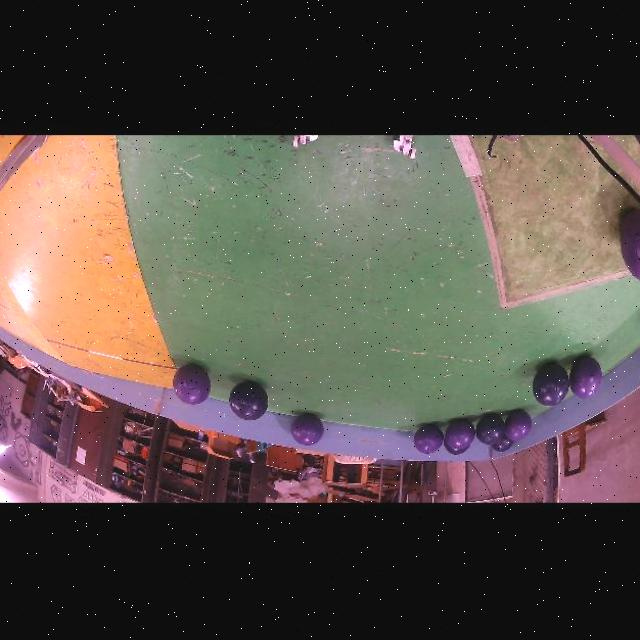B: (532, 362, 569, 406), (230, 381, 268, 421), (476, 413, 506, 444), (443, 439, 468, 455), (492, 435, 513, 452)
P: (173, 363, 212, 404), (569, 356, 603, 398), (621, 210, 640, 281), (291, 413, 324, 445), (444, 418, 475, 449), (504, 409, 532, 440), (414, 425, 444, 453)
